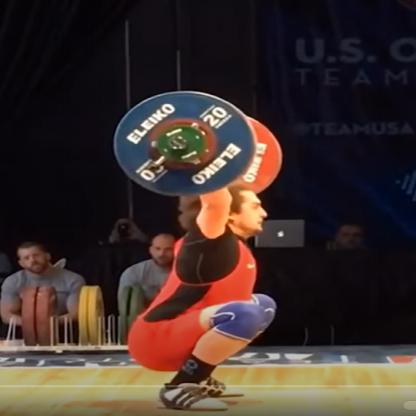Barbell: (111, 86, 260, 198)
